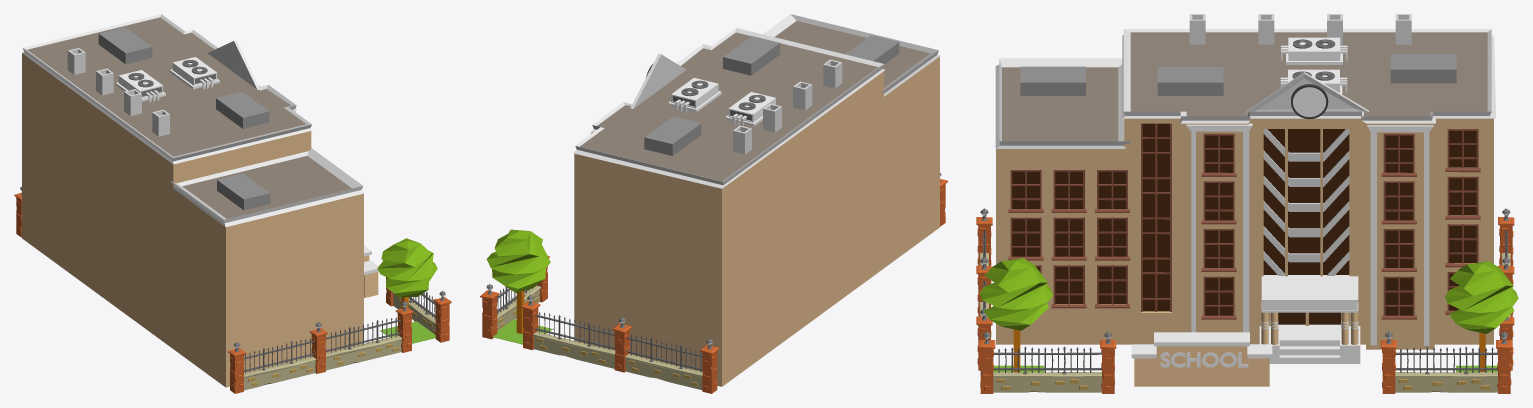
The model's file is School_tran.glb.
3 renders of one model, left to right at view 1: azimuth 30°, elevation 25°; view 2: azimuth 150°, elevation 25°; view 3: azimuth 270°, elevation 25°, orthographic. The views are drawn at different scales.
Visible parts, largest first — view 1: SCHOOL, Board_2_2.011, SM_Env_Fence_19.004, SM_Env_Fence_19.006, Cube.3358, Cube.3359, Cube.3360, Cube.3361, Cube.13373, Cube.13374, SM_Env_Fence_19.007, SM_Env_Fence_End_23.007 (+5 smaller); view 2: SCHOOL, Board_2_2.011, SM_Env_Fence_19.003, SM_Env_Fence_19.002, Cube.3358, Cube.3359, Cube.3360, Cube.13373, Cube.13374, Cube.3361, SM_Env_Fence_19.005, SM_Env_Fence_End_24.001 (+4 smaller); view 3: SCHOOL, Board_2_2.011, School_Front_Block, SCHOOL .002, Cube.13577, School_Block, SM_Env_Fence_19.007, SM_Env_Fence_19.005, Staircase, Cube.3359, Cube.3358, Cube.3361 (+31 smaller).
Boxes of the visible parts, box(x1,y1,x2,y2) form: SCHOOL: box(22, 14, 364, 387); Board_2_2.011: box(377, 238, 437, 308); SM_Env_Fence_19.004: box(326, 317, 402, 370); SM_Env_Fence_19.006: box(244, 338, 316, 390); Cube.3358: box(67, 48, 169, 136); Cube.3359: box(98, 27, 152, 64); Cube.3360: box(216, 91, 269, 128); Cube.3361: box(217, 173, 270, 210); Cube.13373: box(169, 57, 219, 89); Cube.13374: box(116, 70, 165, 102); SM_Env_Fence_19.007: box(392, 292, 436, 334); SM_Env_Fence_End_23.007: box(433, 291, 451, 342); SCHOOL: box(573, 14, 940, 386); Board_2_2.011: box(486, 229, 550, 333); SM_Env_Fence_19.003: box(533, 312, 615, 368); SM_Env_Fence_19.002: box(625, 334, 702, 389); Cube.3358: box(733, 59, 842, 154); Cube.3359: box(644, 116, 701, 155); Cube.3360: box(723, 36, 780, 75); Cube.13373: box(668, 78, 721, 112); Cube.13374: box(725, 92, 775, 126); Cube.3361: box(845, 35, 899, 64); SM_Env_Fence_19.005: box(497, 285, 541, 330); SM_Env_Fence_End_24.001: box(700, 338, 719, 393); SCHOOL: box(995, 29, 1495, 349); Board_2_2.011: box(979, 258, 1518, 372); School_Front_Block: box(1131, 332, 1272, 386); SCHOOL .002: box(1186, 123, 1433, 345); Cube.13577: box(1263, 129, 1349, 275); School_Block: box(1261, 275, 1358, 312); SM_Env_Fence_19.007: box(993, 346, 1101, 392); SM_Env_Fence_19.005: box(1395, 346, 1497, 392); Staircase: box(1259, 324, 1360, 363); Cube.3359: box(1390, 54, 1456, 83); Cube.3358: box(1189, 14, 1411, 44); Cube.3361: box(1020, 66, 1085, 95).
Size of the model in its own units: 0.3921 by 0.3759 by 0.6783.
